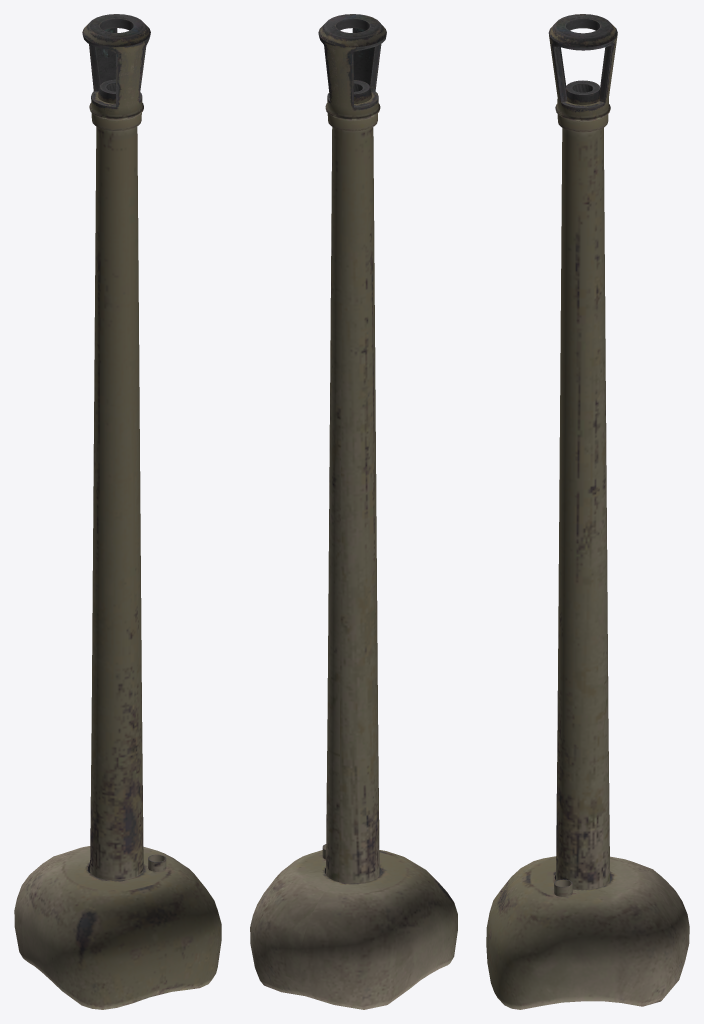
File: Gun_02.glb
3 renders of one model, left to right at view 1: azimuth 30°, elevation 25°; view 2: azimuth 150°, elevation 25°; view 3: azimuth 270°, elevation 25°, orthographic.
Visible parts, largest first — view 1: set_0_group_0; view 2: set_0_group_0; view 3: set_0_group_0.
Part boxes in pixels (left/top/right/bottom): set_0_group_0: left=14, top=14, right=221, bottom=1009; set_0_group_0: left=250, top=14, right=457, bottom=1009; set_0_group_0: left=486, top=14, right=689, bottom=1009.
Bounding box in the file's own units: 1.1 × 6.17 × 1.19.
1 material, 1 textured.
